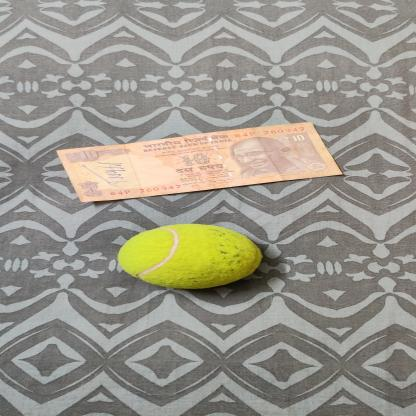Old10Front: (51, 120, 345, 204)
